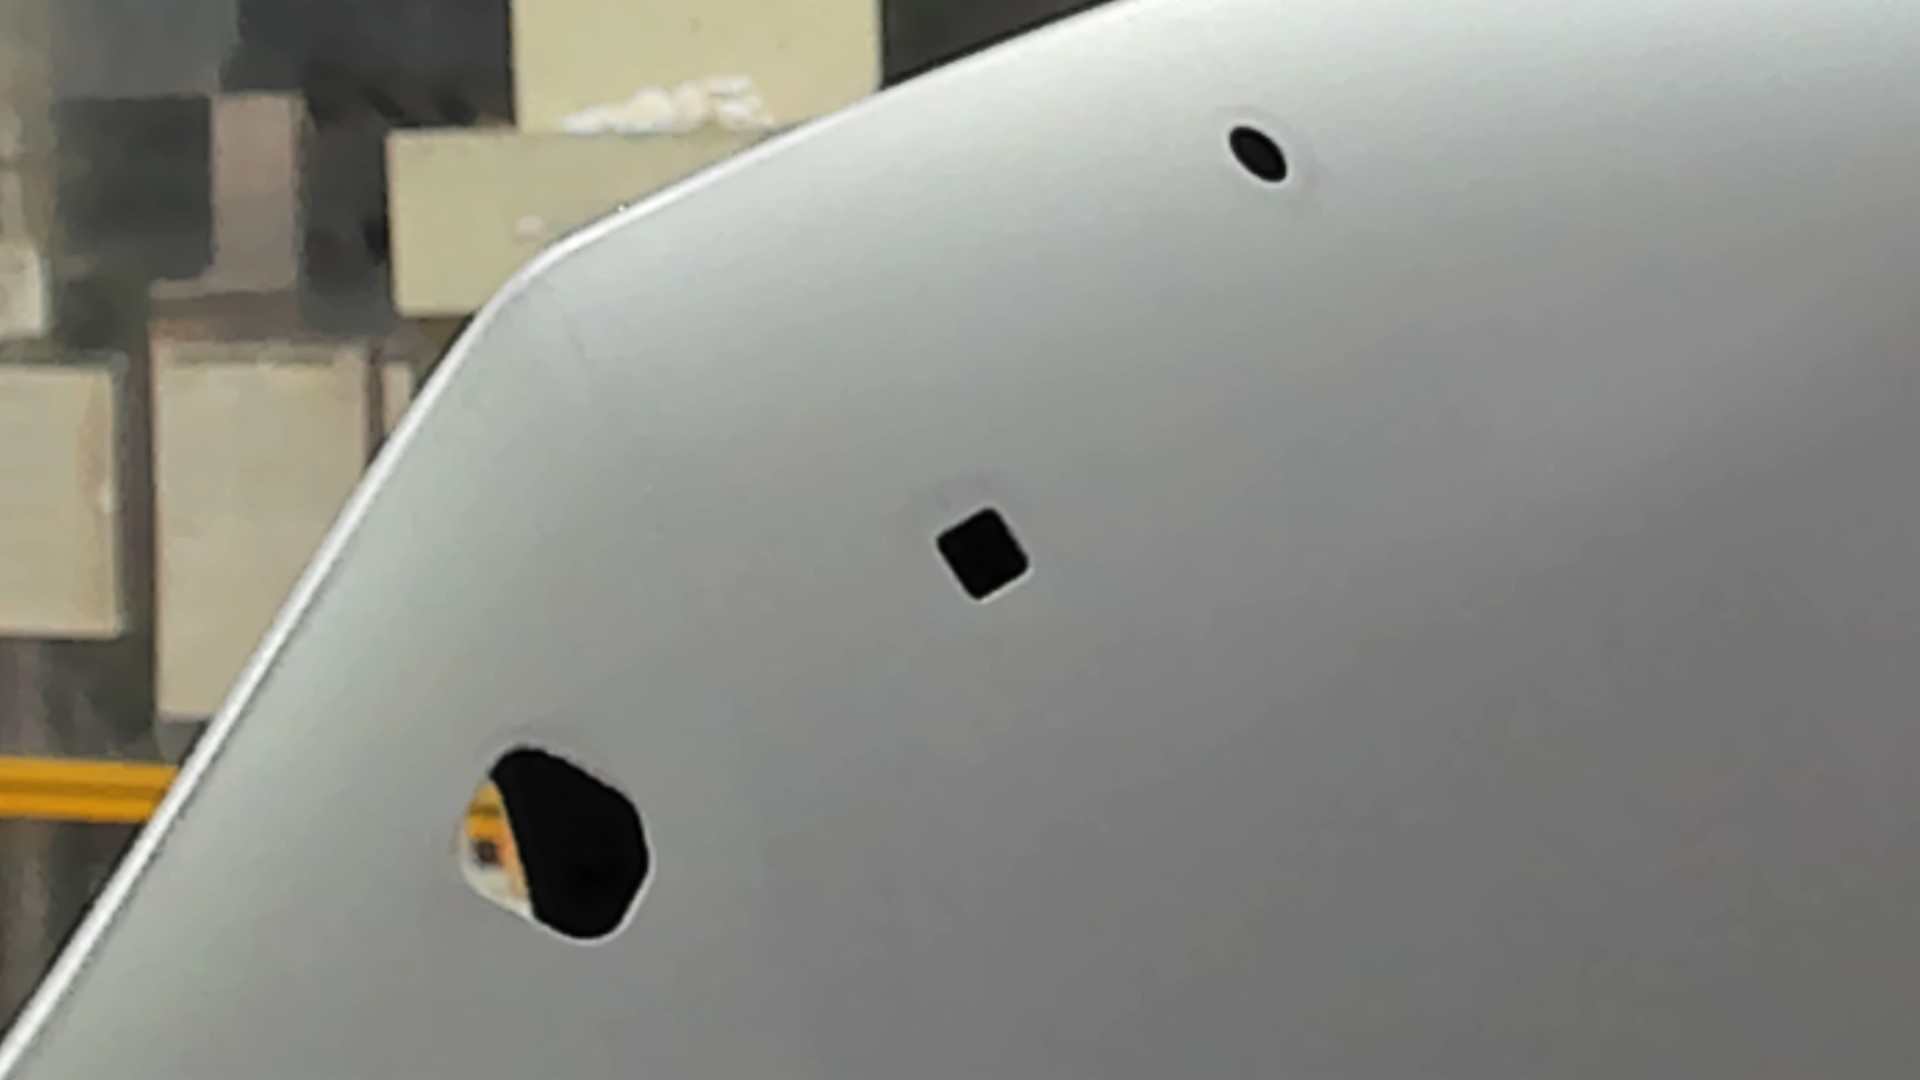capo: (1044, 194, 1920, 1080)
chico: (1221, 117, 1291, 186)
grande: (440, 736, 657, 953)
mediano: (928, 502, 1040, 607)
